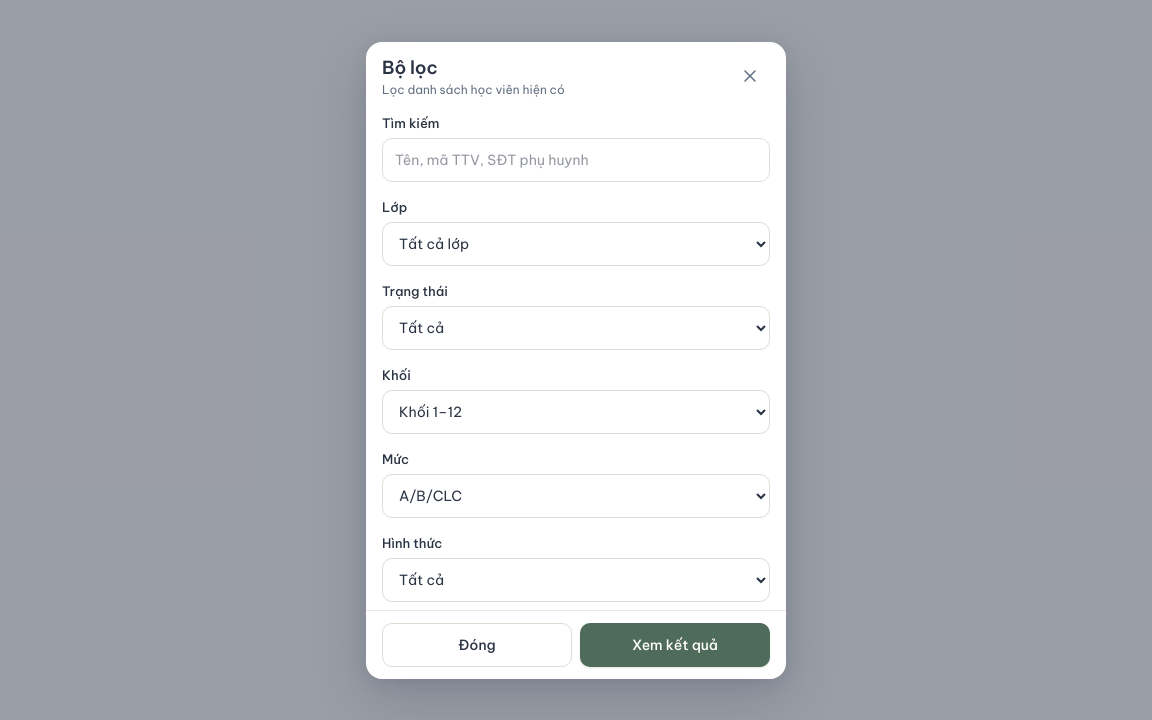
Test case: Students directory presentation › reports active filter counts and clears them when filters are reset
Expected: the text "Lọc danh sách học viên hiện có" is shown, [382,82,565,98]
Select "Đang học" in the dropdown with test id "mobile-student-status" at (576, 328), box [382,306,770,350]
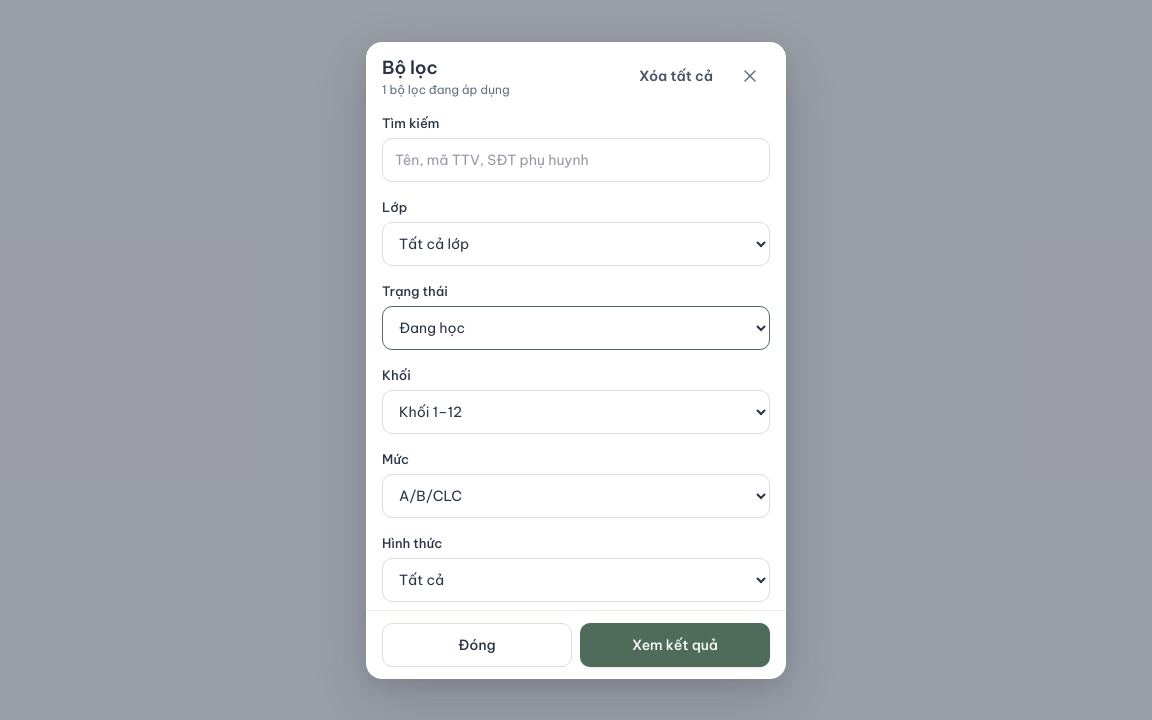
Expected: the text "1 bộ lọc đang áp dụng" is shown, [382,82,510,98]
Select "Khối 7" in the dropdown with test id "mobile-student-grade" at (576, 412), box [382,390,770,434]
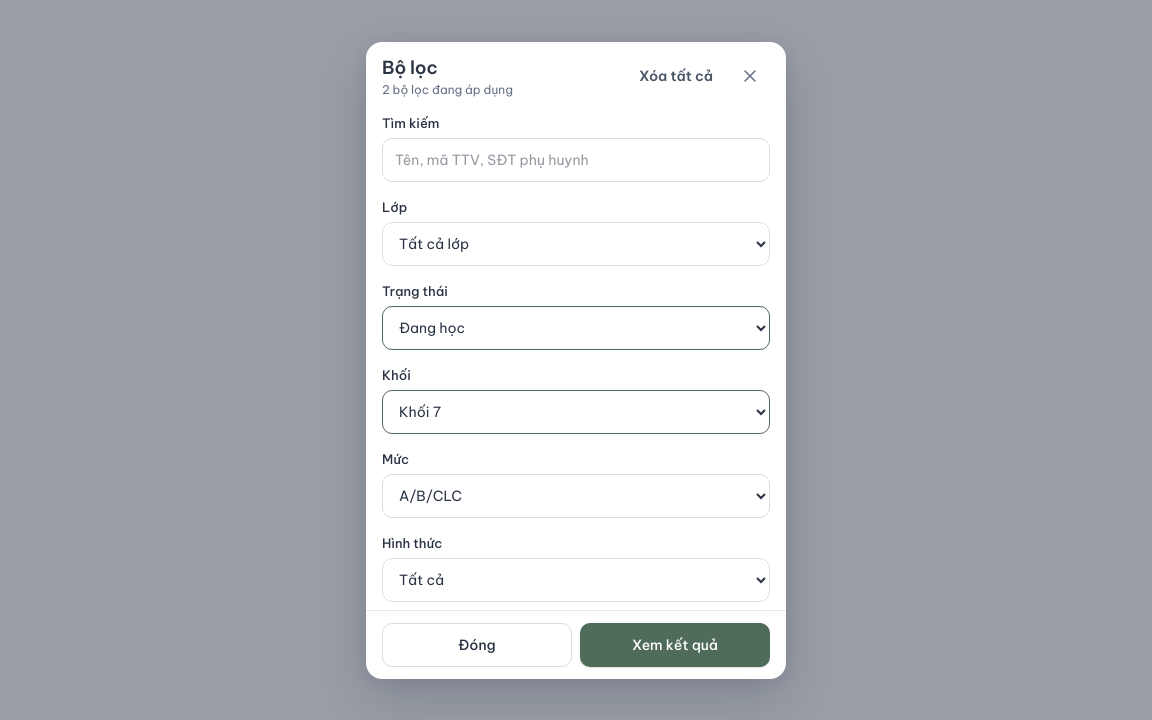
Expected: the text "2 bộ lọc đang áp dụng" is shown, [382,82,513,98]
Click the button with test id "mobile-student-reset-filters" at (676, 76), box [626,56,726,96]
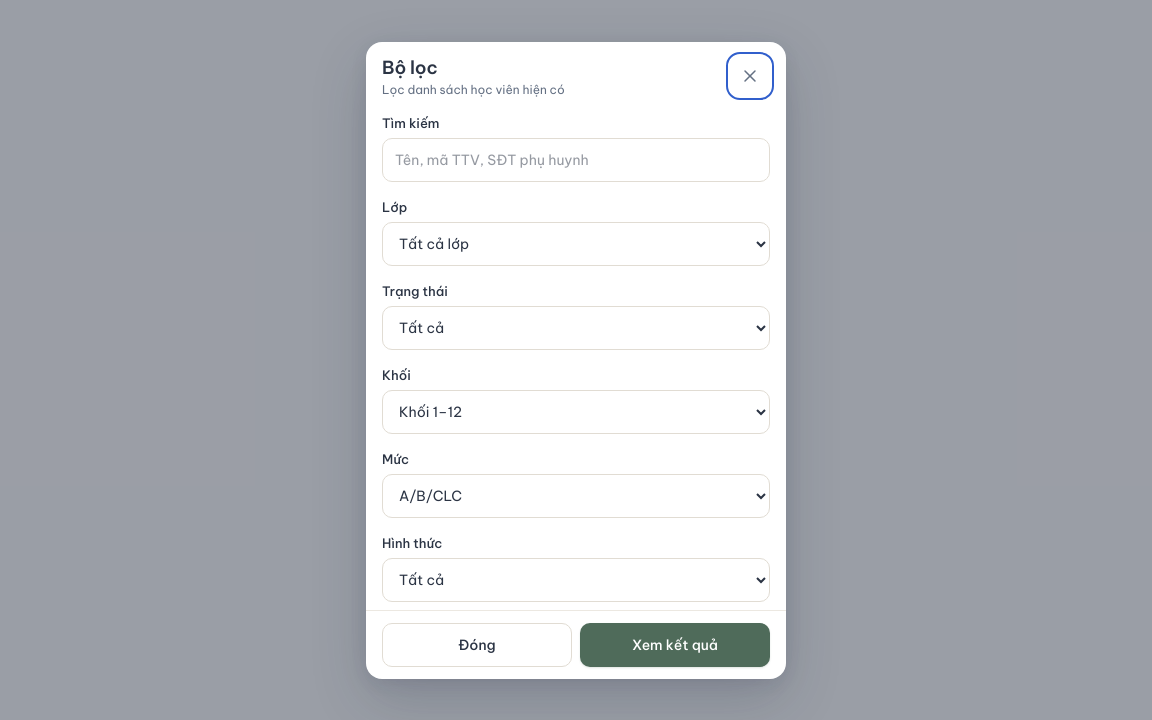
Expected: the text "Lọc danh sách học viên hiện có" is shown, [382,82,565,98]
Expected: the text "bộ lọc đang áp dụng" is gone
